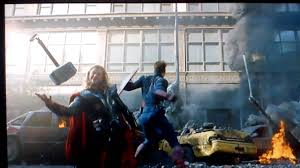THOR Hammer: (24, 33, 79, 84)
